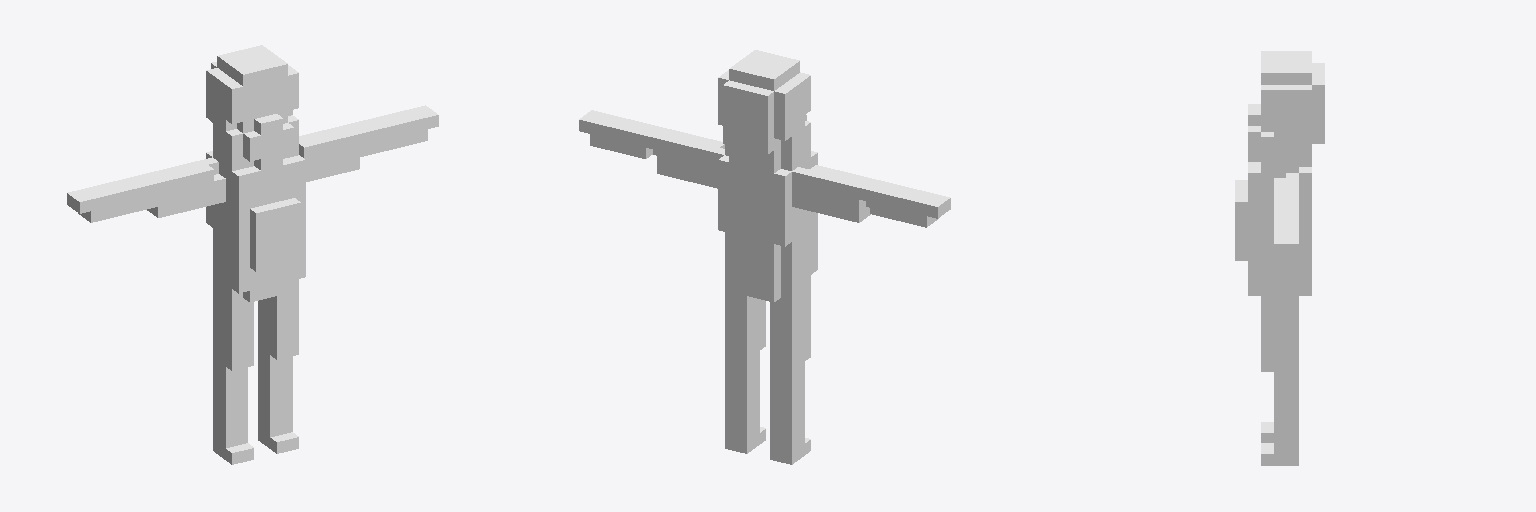
File: Character7.obj
3 views of the same model, side by side, from view 1: azimuth 30°, elevation 25°; view 2: azimuth 150°, elevation 25°; view 3: azimuth 270°, elevation 25° (orthographic).
Parts seen in each view (by area): view 1: Character06_Mesh.006; view 2: Character06_Mesh.006; view 3: Character06_Mesh.006.
Boxes of the visible parts, <box> form: Character06_Mesh.006: <box>67,45,438,464</box>; Character06_Mesh.006: <box>579,50,950,464</box>; Character06_Mesh.006: <box>1235,51,1324,465</box>.
Bounding box in the file's own units: 12.15 × 12.53 × 2.66.